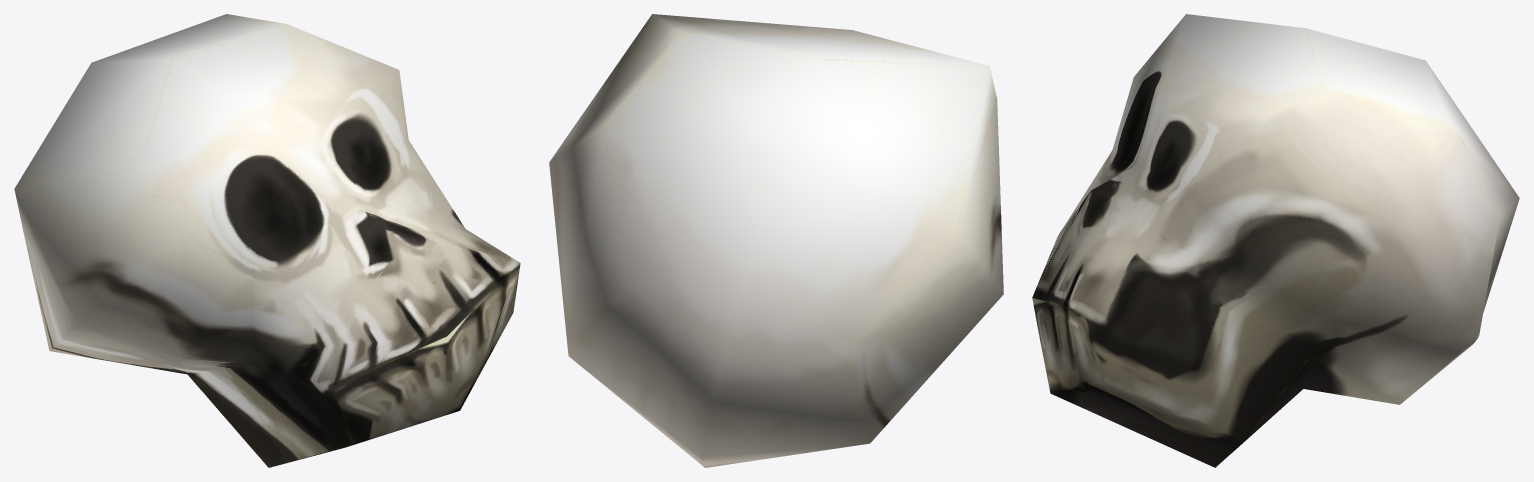
Rendered from Orc_Skull.FBX.
3 views of the same model, side by side, from view 1: azimuth 30°, elevation 25°; view 2: azimuth 150°, elevation 25°; view 3: azimuth 270°, elevation 25° (orthographic). The views are drawn at different scales.
Parts seen in each view (by area): view 1: skull021; view 2: skull021; view 3: skull021.
Boxes of the visible parts, x1,y1,x2,y2 form: skull021: (14,14,520,467); skull021: (549,14,1003,467); skull021: (1032,14,1519,467).
Bounding box in the file's own units: 433 × 418 × 487.
